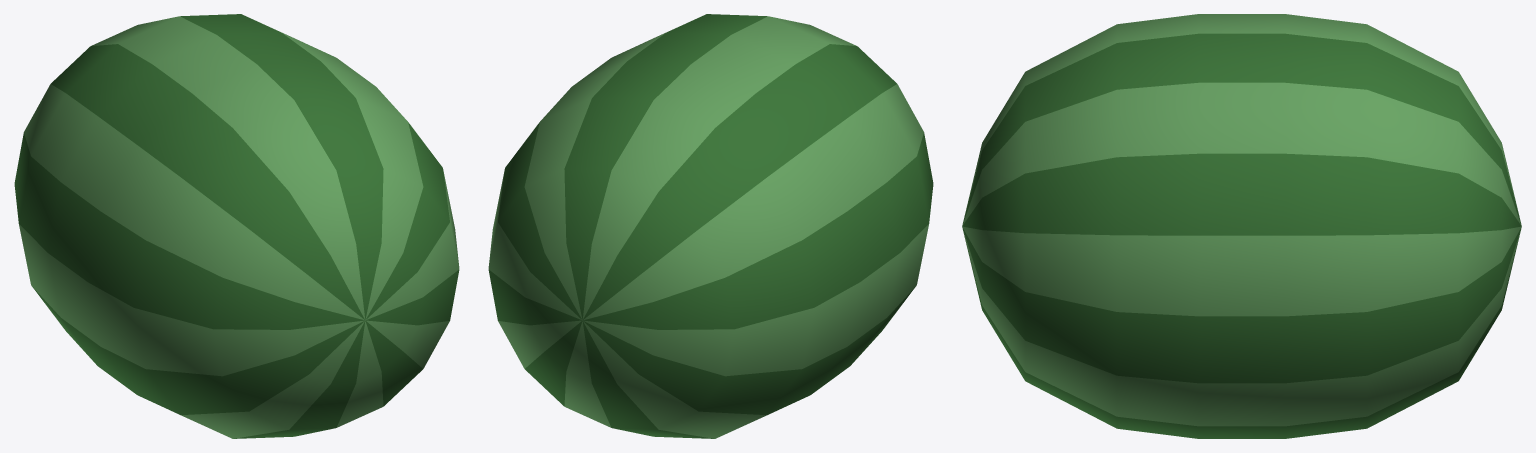
File: watermelon-whole.fbx
3 views of the same model, side by side, from view 1: azimuth 30°, elevation 25°; view 2: azimuth 150°, elevation 25°; view 3: azimuth 270°, elevation 25° (orthographic). The views are drawn at different scales.
Parts seen in each view (by area): view 1: Watermelon; view 2: Watermelon; view 3: Watermelon.
Boxes of the visible parts, box(x1,y1,x2,y2) form: Watermelon: box(14, 14, 459, 438); Watermelon: box(488, 14, 933, 438); Watermelon: box(962, 14, 1521, 438).
Bounding box in the file's own units: 30.11 × 30.11 × 39.62.
